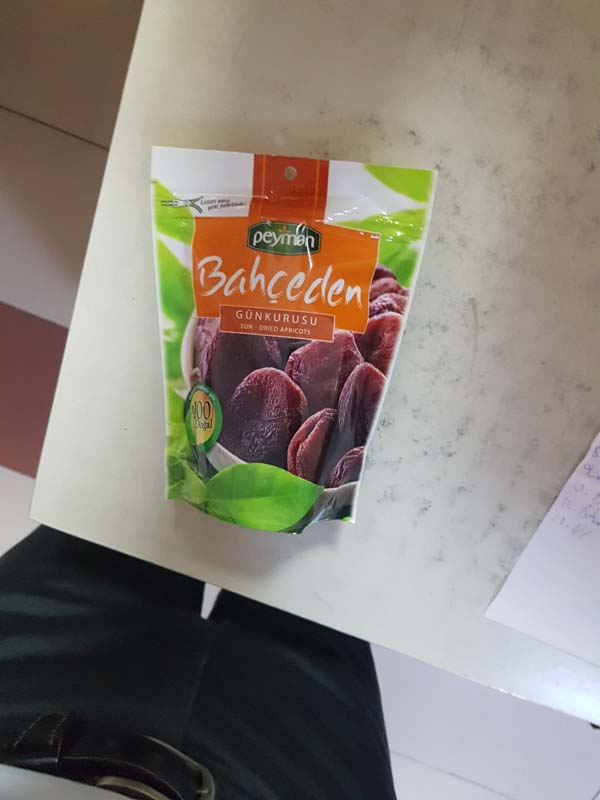bahcedengunkurusu: (140, 139, 446, 533)
